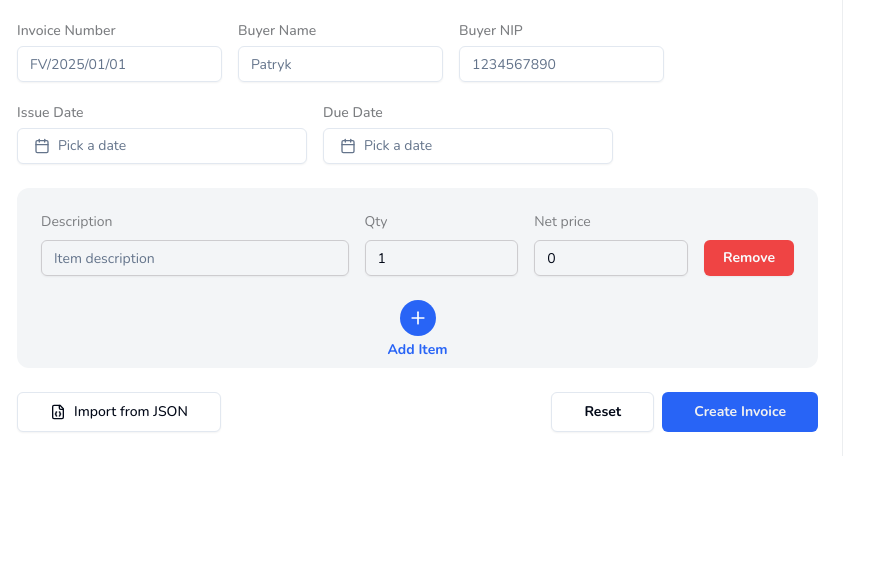
InvoiceForm › shows validation errors when submitting empty form
The image size is (889, 574).
Click the button "Create Invoice": click(740, 412) x1=662 y1=392 x2=818 y2=432
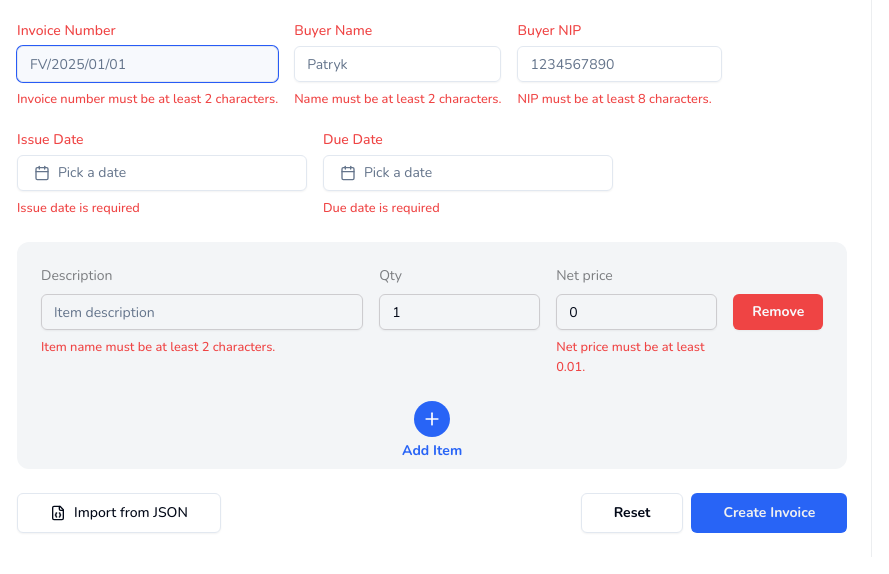
Expected: the text "Invoice number must be at least 2 characters." is shown, x1=17 y1=90 x2=278 y2=109
Expected: the text "Name must be at least 2 characters." is shown, x1=294 y1=90 x2=501 y2=109
Expected: the text "Issue date is required" is shown, x1=17 y1=199 x2=140 y2=217
